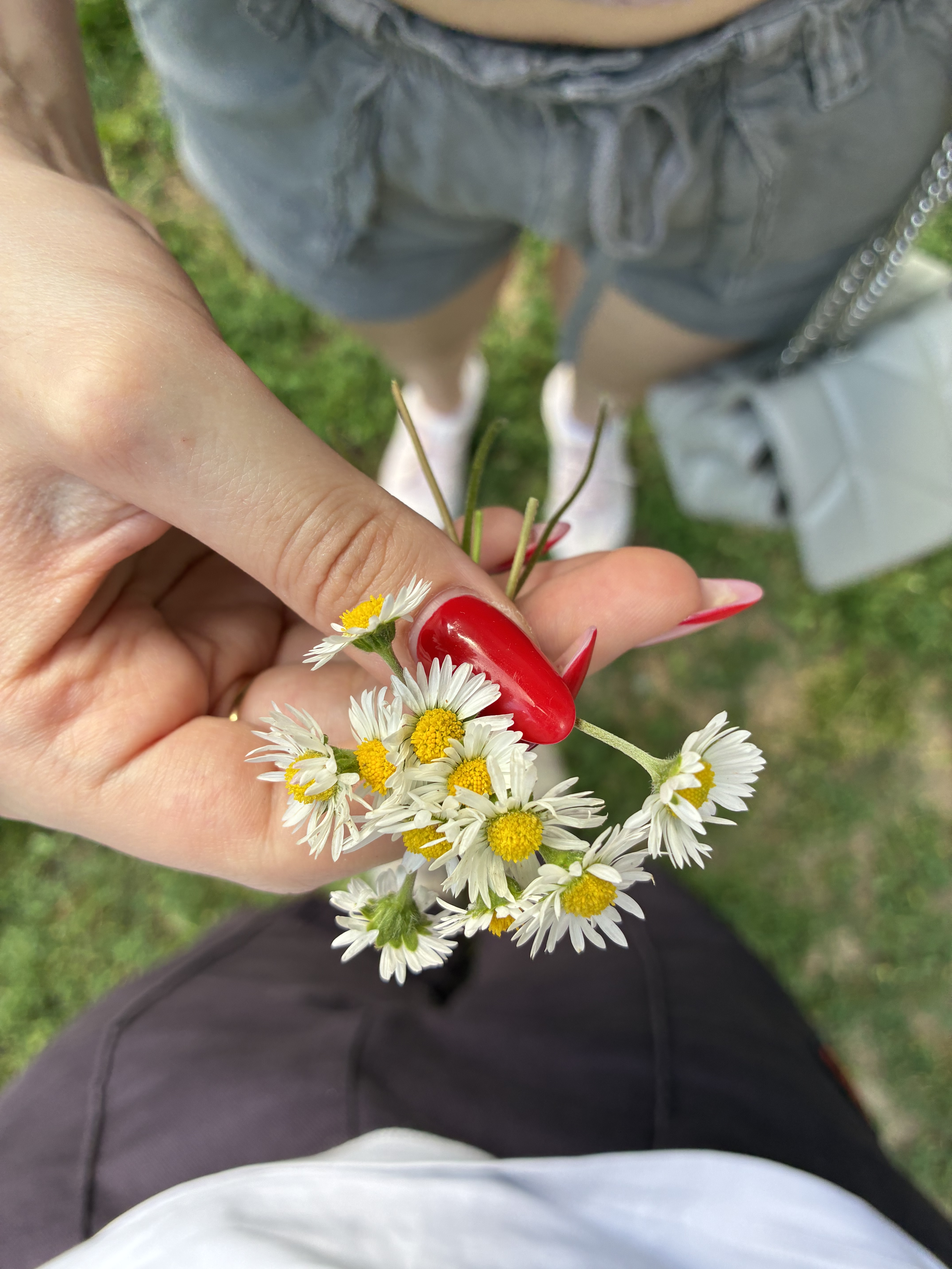daisy: (429, 743, 614, 907), (615, 706, 777, 870), (237, 694, 373, 860), (384, 653, 511, 807), (318, 864, 463, 989), (301, 566, 439, 678), (407, 720, 538, 826), (339, 683, 421, 832), (427, 861, 556, 945), (386, 799, 470, 898)
